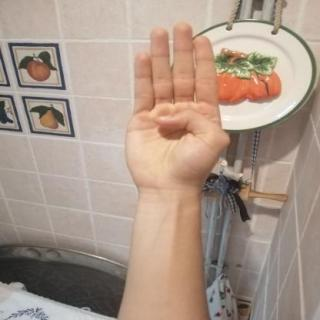KAAF: (107, 12, 245, 205)
